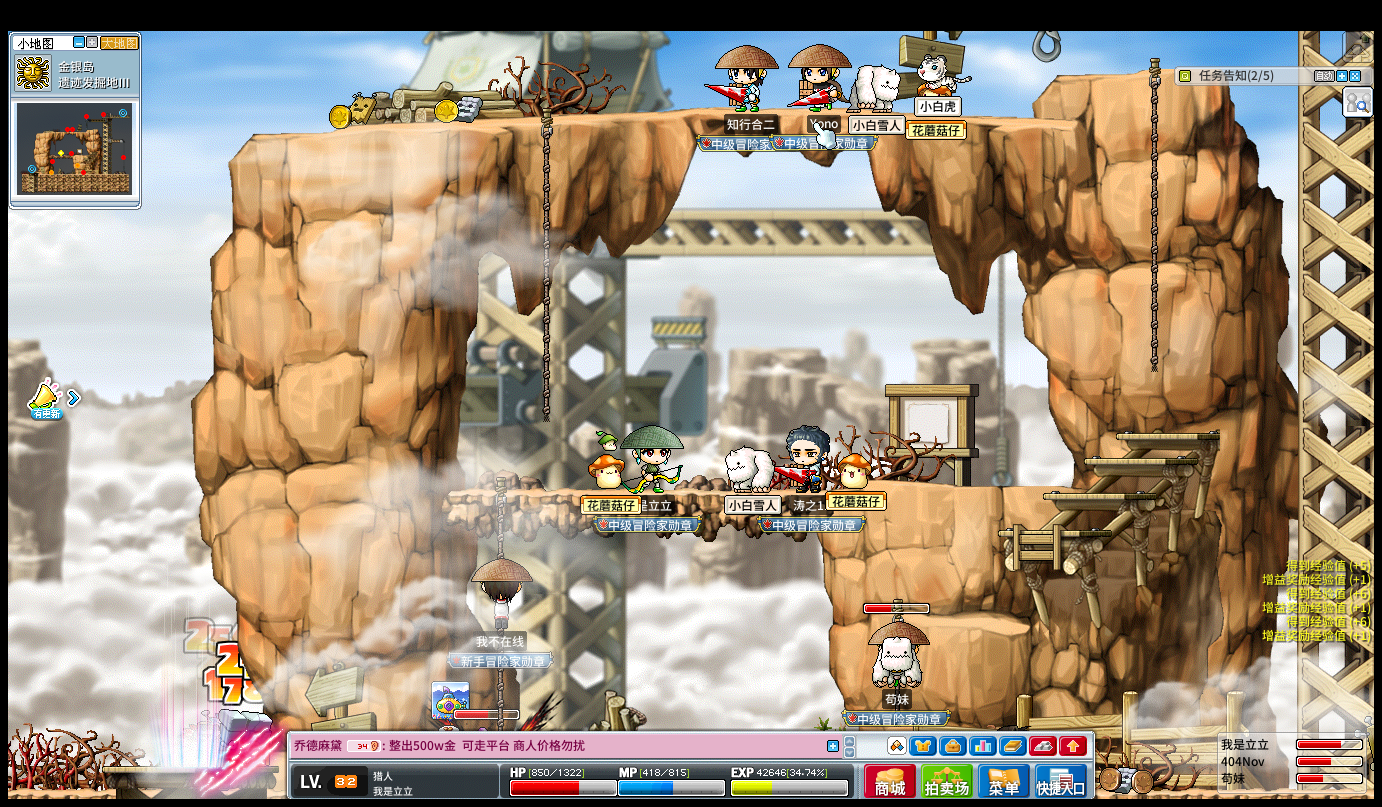floor: (228, 102, 1062, 139), (444, 487, 820, 498), (924, 612, 1028, 634), (904, 482, 1076, 492), (1053, 68, 1169, 81), (1115, 429, 1221, 441), (1077, 456, 1195, 465), (996, 528, 1110, 536), (1044, 492, 1157, 500)
rope: (1147, 55, 1161, 376), (539, 109, 551, 428), (491, 478, 504, 559)
